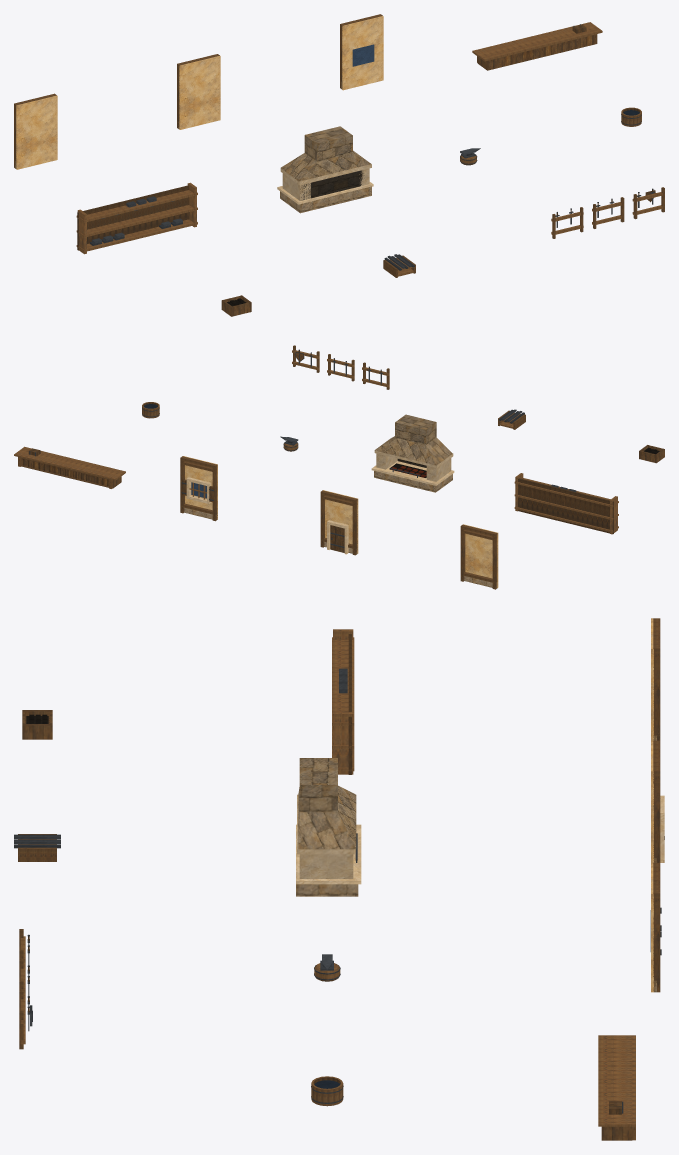
Rendered from sanctuary-smithy.glb.
The picture shows the model from 3 angles, top to bottom: view 1: azimuth 30°, elevation 25°; view 2: azimuth 150°, elevation 25°; view 3: azimuth 270°, elevation 25°; orthographic projection. The views are drawn at different scales.
Parts seen in each view (by area): view 1: forge-opaque-0, shelves-opaque-0, window-wall-opaque-0, wall-opaque-0, exit-door-opaque-0, counter-opaque-0, equipment-opaque-0, iron-stock-opaque-0, charcoal-opaque-0; view 2: forge-opaque-0, shelves-opaque-0, exit-door-opaque-0, wall-opaque-0, counter-opaque-0, window-wall-opaque-0, equipment-opaque-0, iron-stock-opaque-0, charcoal-opaque-0; view 3: forge-opaque-0, counter-opaque-0, shelves-opaque-0, exit-door-opaque-0, window-wall-opaque-0, wall-opaque-0, iron-stock-opaque-0, equipment-opaque-0, charcoal-opaque-0, quench-tub-opaque-0.
Part boxes in pixels (x1=…): forge-opaque-0: x1=277, y1=126, x2=373, y2=213; shelves-opaque-0: x1=76, y1=182, x2=197, y2=254; window-wall-opaque-0: x1=340, y1=14, x2=383, y2=90; wall-opaque-0: x1=14, y1=93, x2=57, y2=169; exit-door-opaque-0: x1=177, y1=54, x2=220, y2=129; counter-opaque-0: x1=472, y1=22, x2=602, y2=70; equipment-opaque-0: x1=551, y1=187, x2=664, y2=238; iron-stock-opaque-0: x1=383, y1=254, x2=415, y2=277; charcoal-opaque-0: x1=221, y1=295, x2=251, y2=316; forge-opaque-0: x1=371, y1=414, x2=454, y2=492; shelves-opaque-0: x1=514, y1=473, x2=618, y2=534; exit-door-opaque-0: x1=320, y1=490, x2=358, y2=555; wall-opaque-0: x1=460, y1=524, x2=498, y2=589; counter-opaque-0: x1=14, y1=446, x2=125, y2=488; window-wall-opaque-0: x1=180, y1=456, x2=217, y2=521; equipment-opaque-0: x1=292, y1=345, x2=389, y2=389; iron-stock-opaque-0: x1=498, y1=409, x2=525, y2=429; charcoal-opaque-0: x1=639, y1=445, x2=664, y2=463; forge-opaque-0: x1=296, y1=758, x2=361, y2=896; counter-opaque-0: x1=598, y1=1035, x2=635, y2=1140; shelves-opaque-0: x1=332, y1=629, x2=354, y2=774; exit-door-opaque-0: x1=651, y1=740, x2=664, y2=863; window-wall-opaque-0: x1=650, y1=863, x2=661, y2=992; wall-opaque-0: x1=651, y1=618, x2=660, y2=740; iron-stock-opaque-0: x1=14, y1=834, x2=60, y2=861; equipment-opaque-0: x1=19, y1=929, x2=32, y2=1049; charcoal-opaque-0: x1=22, y1=710, x2=52, y2=739; quench-tub-opaque-0: x1=311, y1=1076, x2=343, y2=1106.
Size of the model in its own units: 14.85 by 1.5 by 8.99.
Materials: 1 (1 with a texture image).
